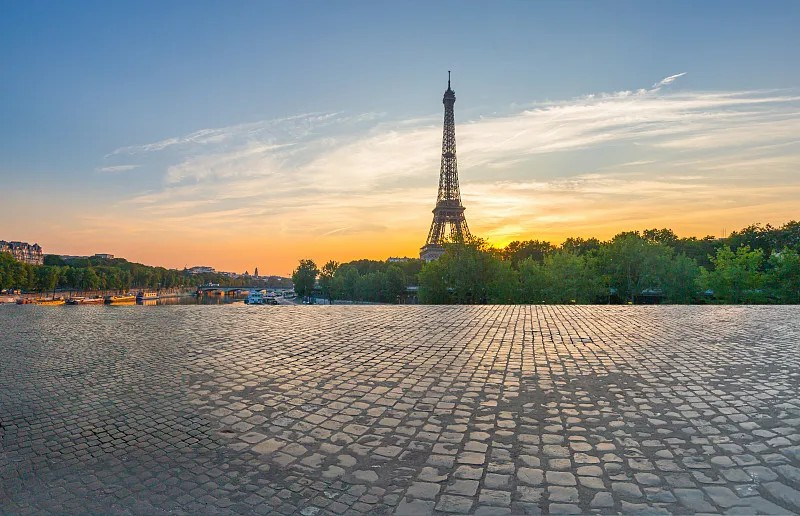Eiffel: (419, 69, 481, 264)
